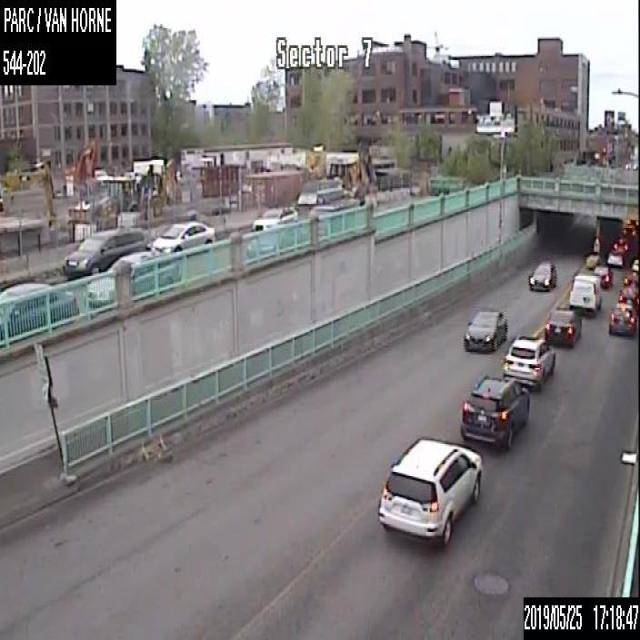vehicle: (376, 435, 483, 544), (84, 250, 181, 312), (0, 277, 78, 344), (460, 374, 530, 448), (63, 227, 146, 276), (502, 334, 555, 390), (152, 220, 215, 256), (246, 222, 306, 258), (462, 308, 508, 353), (309, 196, 359, 236), (544, 307, 582, 346), (568, 271, 602, 314), (251, 204, 298, 231), (526, 257, 558, 292), (608, 300, 639, 335), (617, 284, 639, 312), (592, 265, 612, 287), (606, 248, 624, 266), (613, 235, 628, 253), (623, 272, 639, 287), (632, 258, 639, 272)
